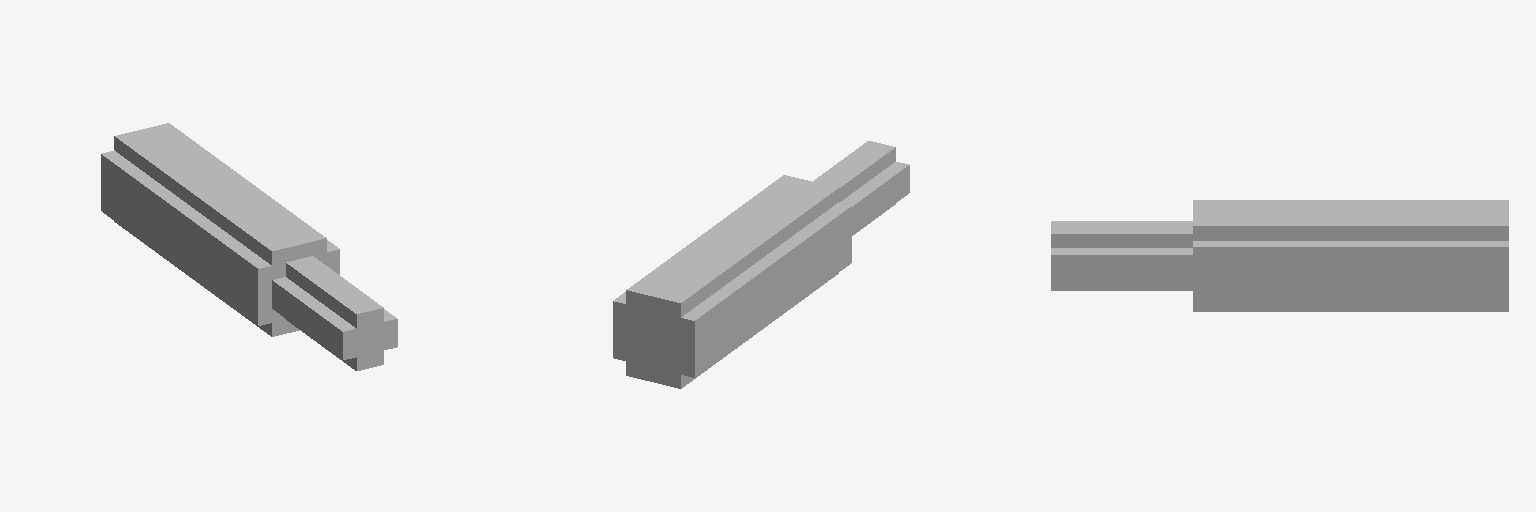
File: балка на которой крутиться лента с низу к ней так же прикреплен генератор.obj
3 renders of one model, left to right at view 1: azimuth 30°, elevation 25°; view 2: azimuth 150°, elevation 25°; view 3: azimuth 270°, elevation 25°, orthographic.
Parts seen in each view (by area): view 1: object 1; view 2: object 1; view 3: object 1.
Part boxes in pixels (x1,y1,x2,y2): object 1: (101, 123, 397, 370); object 1: (613, 141, 909, 388); object 1: (1051, 200, 1508, 311).
Bounding box in the file's own units: 0.6 × 0.6 × 2.9.